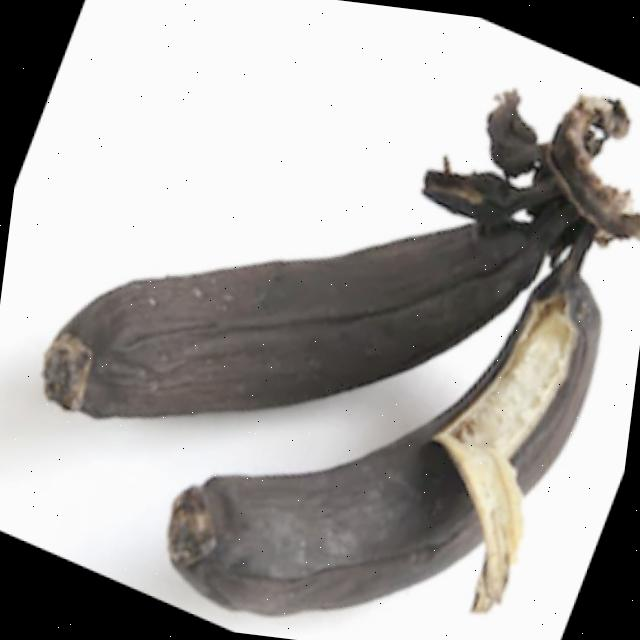rotten banana: (0, 106, 561, 511), (157, 210, 640, 640)
